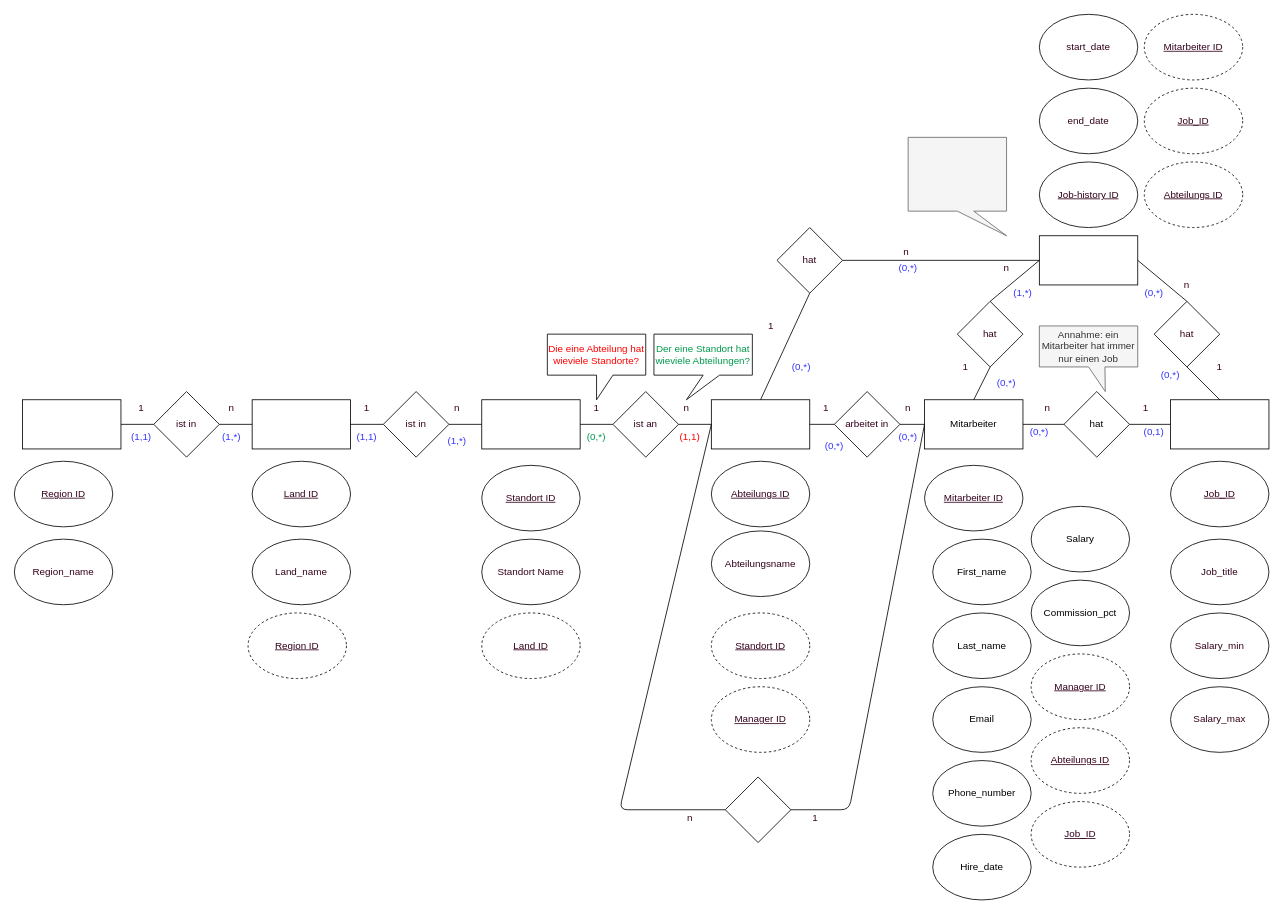
The diagram is 1283 pixels wide and 914 high, and some of its shapes have lost their labels. The centre of each missing label's shape, as x and y in pixels:
"Abteilung" goes at [760,424].
"Annahme: ein Mitarbeiter kann mehrmals den gleichen Job gehabt haben" goes at [957,186].
"gemanaged von" goes at [757,809].
"Job" goes at [1219,424].
"Job-history" goes at [1088,260].
"Land" goes at [301,424].
"Region" goes at [71,424].
"Standort" goes at [530,424].
